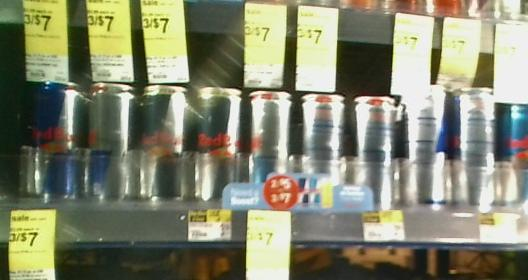bottle: (138, 77, 189, 204), (35, 78, 84, 203), (248, 82, 295, 211), (88, 77, 134, 203), (300, 85, 347, 207), (352, 87, 397, 211), (196, 75, 239, 203), (402, 85, 447, 203), (453, 82, 496, 201), (500, 95, 528, 207)
